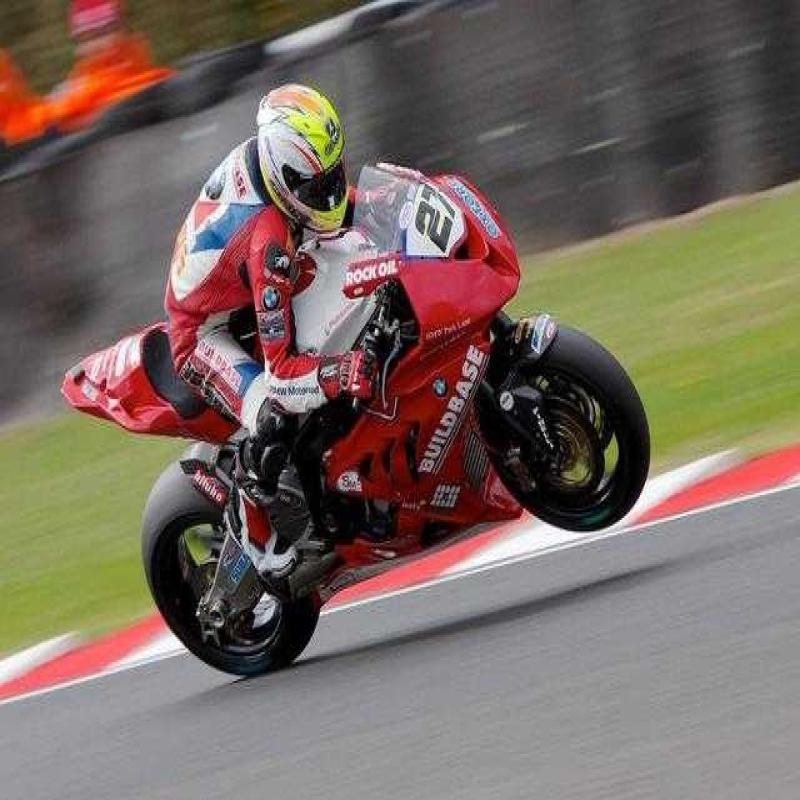bike: (67, 263, 654, 668)
